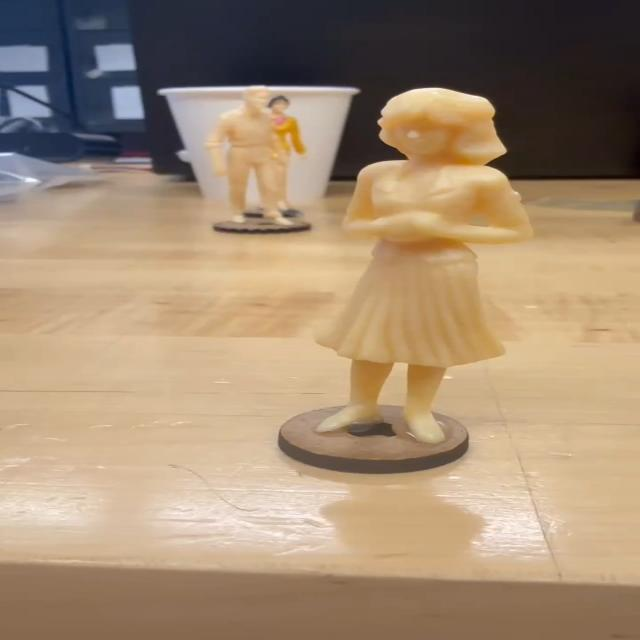Unauthorized: (304, 80, 527, 458)
